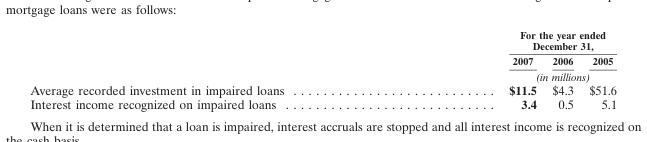table: (29, 28, 616, 111)
table column: (29, 28, 395, 111), (395, 28, 543, 111), (543, 28, 580, 111), (580, 28, 616, 111)
table column header: (29, 28, 616, 82)
table row: (29, 28, 616, 52), (29, 52, 616, 68), (29, 96, 616, 111), (29, 68, 616, 82), (29, 82, 616, 96)
table spanning cell: (395, 28, 616, 52), (395, 68, 616, 82)
